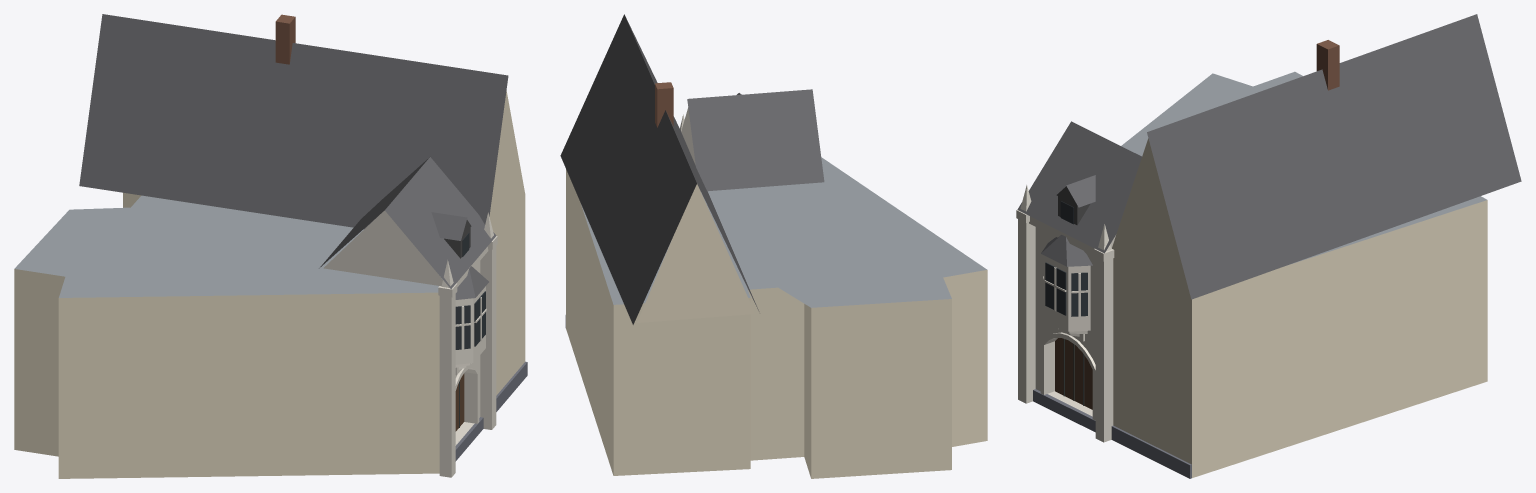
The picture shows the model from 3 angles, left to right: view 1: azimuth 30°, elevation 25°; view 2: azimuth 150°, elevation 25°; view 3: azimuth 270°, elevation 25°; orthographic projection. The views are drawn at different scales.
Size of the model in its own units: 21.55 by 15.4 by 20.18.
